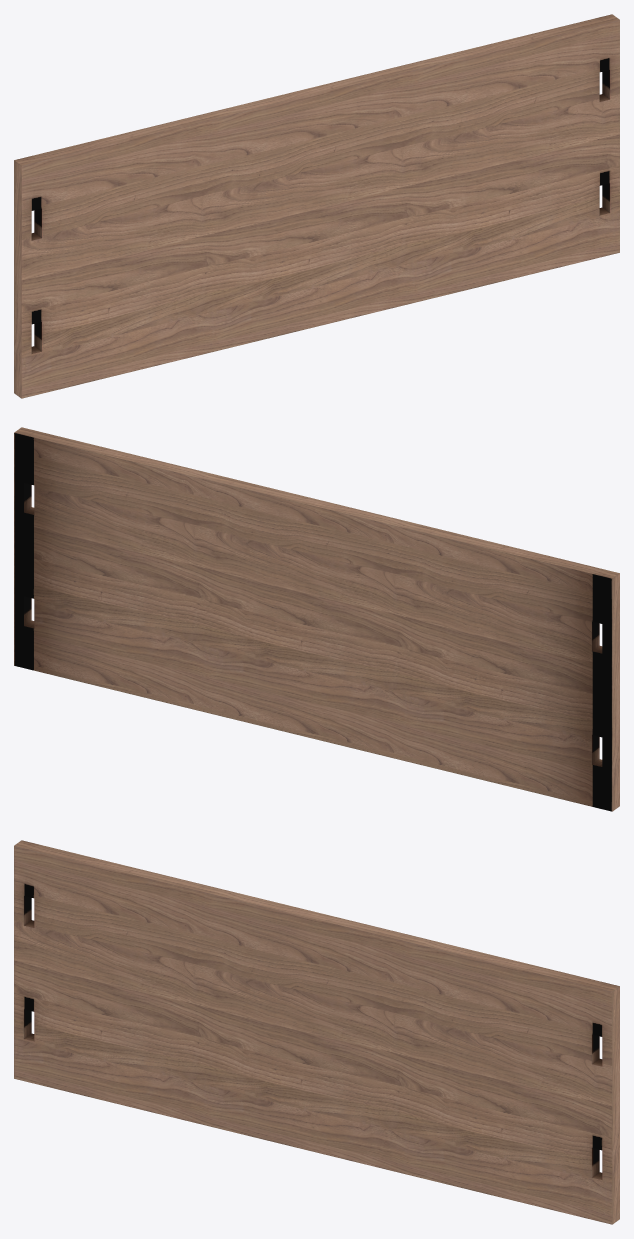
Rendered from unit_small_panel.glb.
3 views of the same model, one above another, from view 1: azimuth 30°, elevation 25°; view 2: azimuth 150°, elevation 25°; view 3: azimuth 330°, elevation 25° (orthographic).
Parts seen in each view (by area): view 1: m_small_panel; view 2: m_small_panel; view 3: m_small_panel.
Boxes of the visible parts, box(x1,y1,x2,y2) form: m_small_panel: box(14, 14, 619, 398); m_small_panel: box(14, 427, 619, 811); m_small_panel: box(14, 840, 619, 1224).
Bounding box in the file's own units: 0.9581 × 0.3564 × 0.0211.
1 material, 1 textured.
